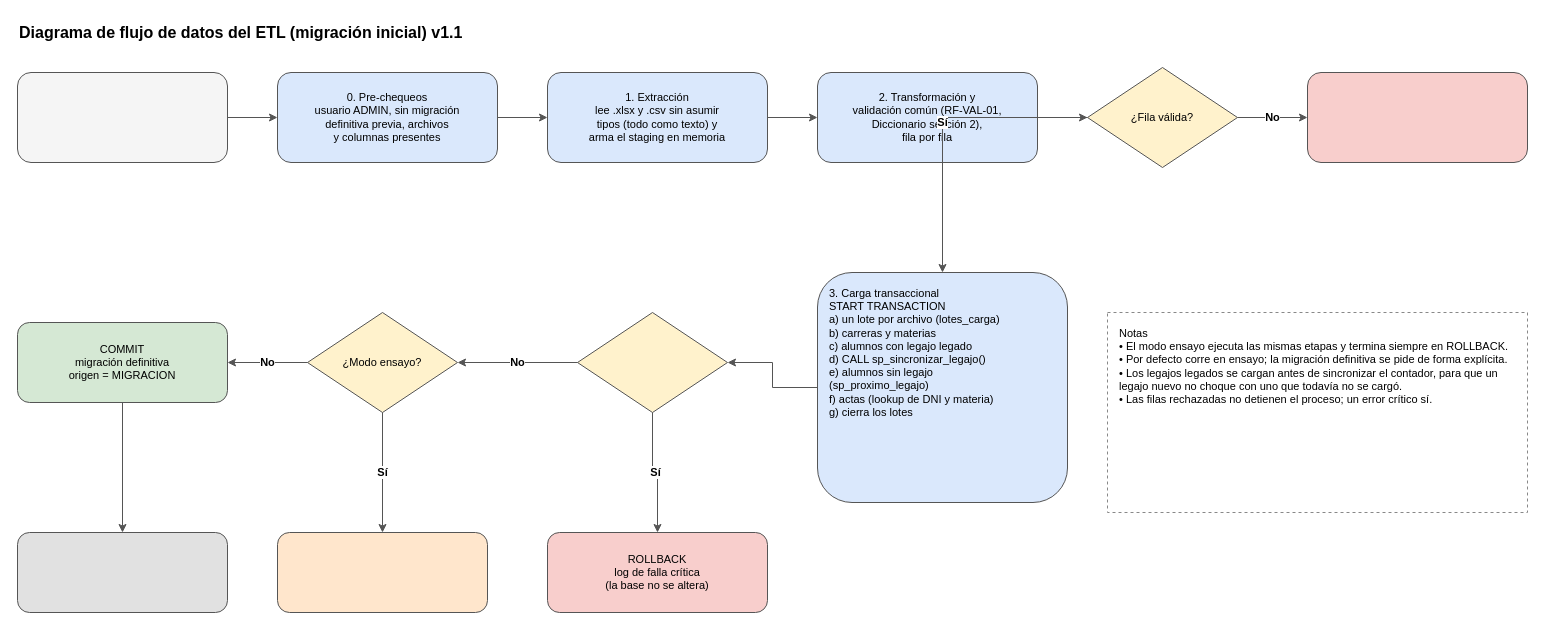
The diagram is 1545 pixels wide and 630 high, and some of its shapes have lost their labels. Here are the shapes that lost their labels. From the top down, the box of each, then its label:
(16, 72, 228, 162): Archivos legados Alumnos_2026_Final.xlsx Plan_Estudios.xlsx Actas_Historicas.csv
(1306, 72, 1528, 162): Rechazos errores_migracion.log inconsistencias_actas.csv
(576, 312, 728, 412): ¿Error crítico?
(16, 532, 228, 612): 4. Informe final informe_migracion.txt conteos por entidad y código
(276, 532, 488, 612): ROLLBACK informe de ensayo (no se guarda nada)
